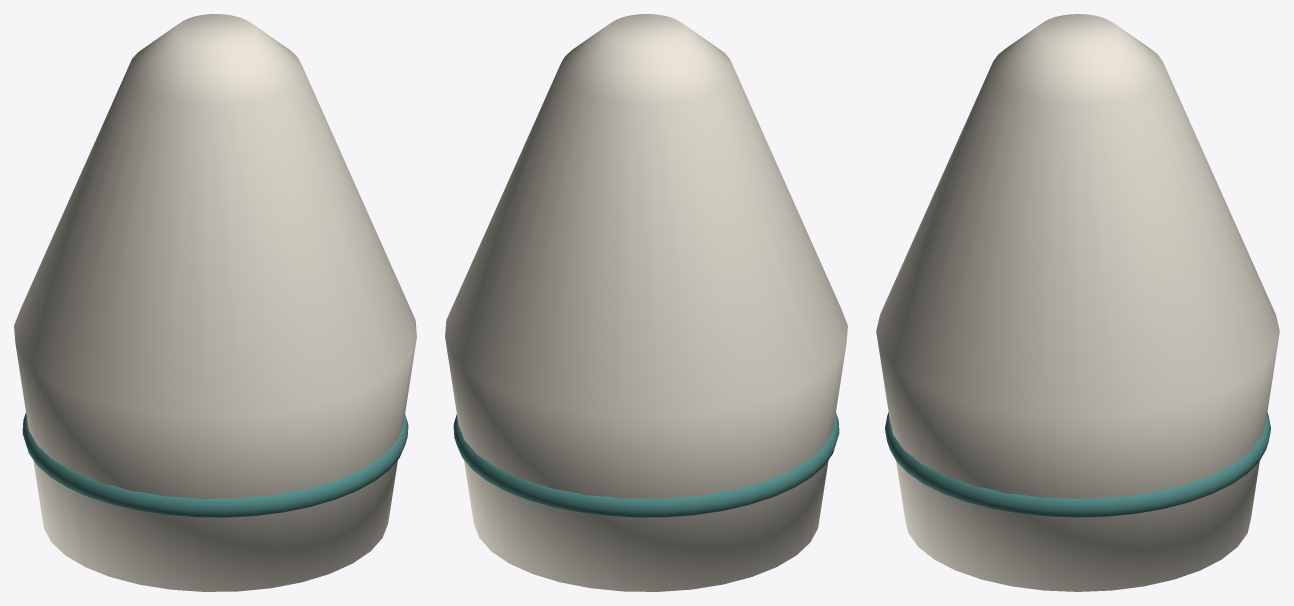
The model's file is wp-diffuseur-d-ambiance.glb.
The picture shows the model from 3 angles, left to right: view 1: azimuth 30°, elevation 25°; view 2: azimuth 150°, elevation 25°; view 3: azimuth 270°, elevation 25°; orthographic projection.
Parts seen in each view (by area): view 1: wp-diffuseur-d-ambiance; view 2: wp-diffuseur-d-ambiance; view 3: wp-diffuseur-d-ambiance.
Boxes of the visible parts, bbox=[...] form: wp-diffuseur-d-ambiance: bbox=[14, 14, 416, 591]; wp-diffuseur-d-ambiance: bbox=[445, 14, 847, 591]; wp-diffuseur-d-ambiance: bbox=[876, 14, 1279, 591].
Bounding box in the file's own units: 0.15 × 0.2 × 0.15.
